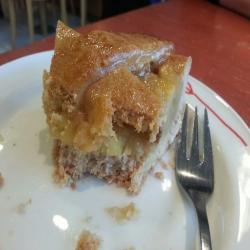apple_pie: (41, 18, 194, 192)
